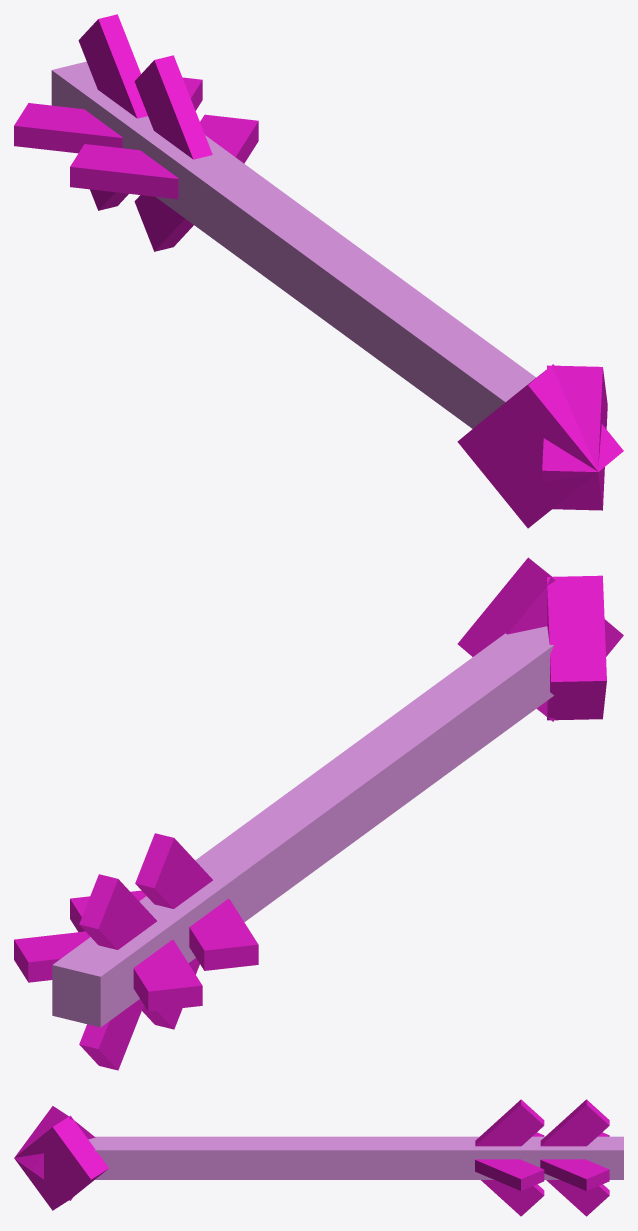
The model's file is PoisonArrowA.fbx.
3 renders of one model, top to bottom at view 1: azimuth 30°, elevation 25°; view 2: azimuth 150°, elevation 25°; view 3: azimuth 270°, elevation 25°, orthographic. The views are drawn at different scales.
Visible parts, largest first — view 1: Cube.001, Cube.012, Cube.002, Cube.003, Cube.014, Cube.005, Cube.013, Cube.015, Cube.016; view 2: Cube.001, Cube.012, Cube.002, Cube.014, Cube.005, Cube.013, Cube.003, Cube.006, Cube.004; view 3: Cube.001, Cube.002, Cube.014, Cube.005, Cube.016, Cube.004, Cube.012, Cube.015, Cube.006.
Part boxes in pixels (x1,y1,x2,y2): Cube.001: (51,61,536,428); Cube.012: (457,364,623,528); Cube.002: (542,365,607,510); Cube.003: (70,144,178,199); Cube.014: (134,55,212,159); Cube.005: (78,14,147,118); Cube.013: (14,103,122,153); Cube.015: (134,195,193,251); Cube.016: (200,114,258,163); Cube.001: (52,626,553,1027); Cube.012: (547,575,606,720); Cube.002: (457,557,623,721); Cube.014: (135,833,212,908); Cube.005: (79,874,156,949); Cube.013: (133,940,202,1011); Cube.003: (189,899,258,970); Cube.006: (79,999,143,1070); Cube.004: (14,931,90,982); Cube.001: (88,1136,623,1179); Cube.002: (14,1115,108,1210); Cube.014: (475,1099,544,1146); Cube.005: (540,1099,609,1146); Cube.016: (475,1159,544,1190); Cube.004: (540,1159,609,1190); Cube.012: (14,1106,95,1200); Cube.015: (481,1180,544,1216); Cube.006: (546,1180,609,1216).
Bounding box in the file's own units: 38.9 × 37.8 × 187.
